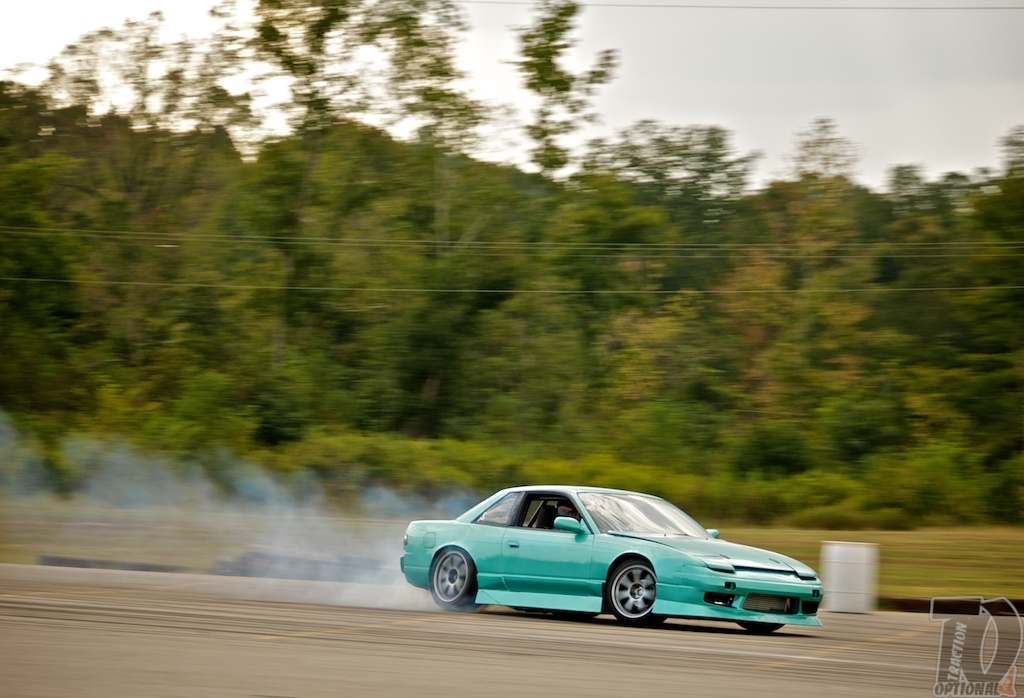Car: (385, 481, 830, 651)
